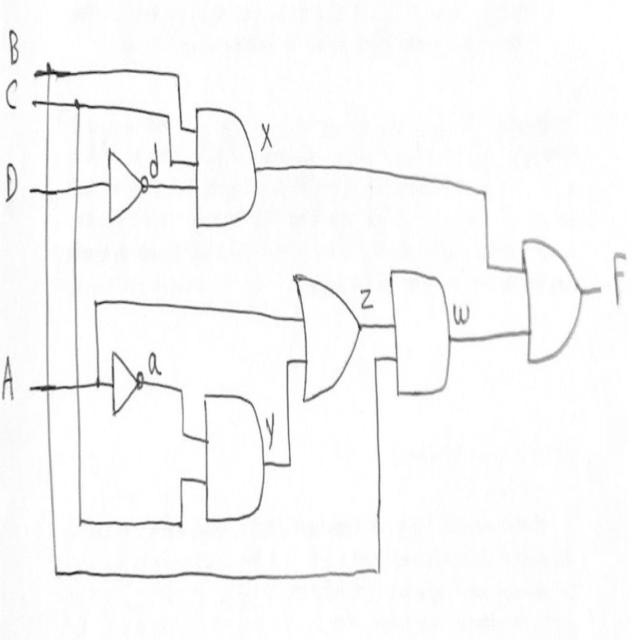AND: (386, 253, 456, 414), (196, 385, 267, 529), (189, 104, 262, 238)
NOT: (96, 142, 149, 230), (108, 336, 146, 426)
OR: (517, 210, 595, 374), (289, 266, 361, 414)
